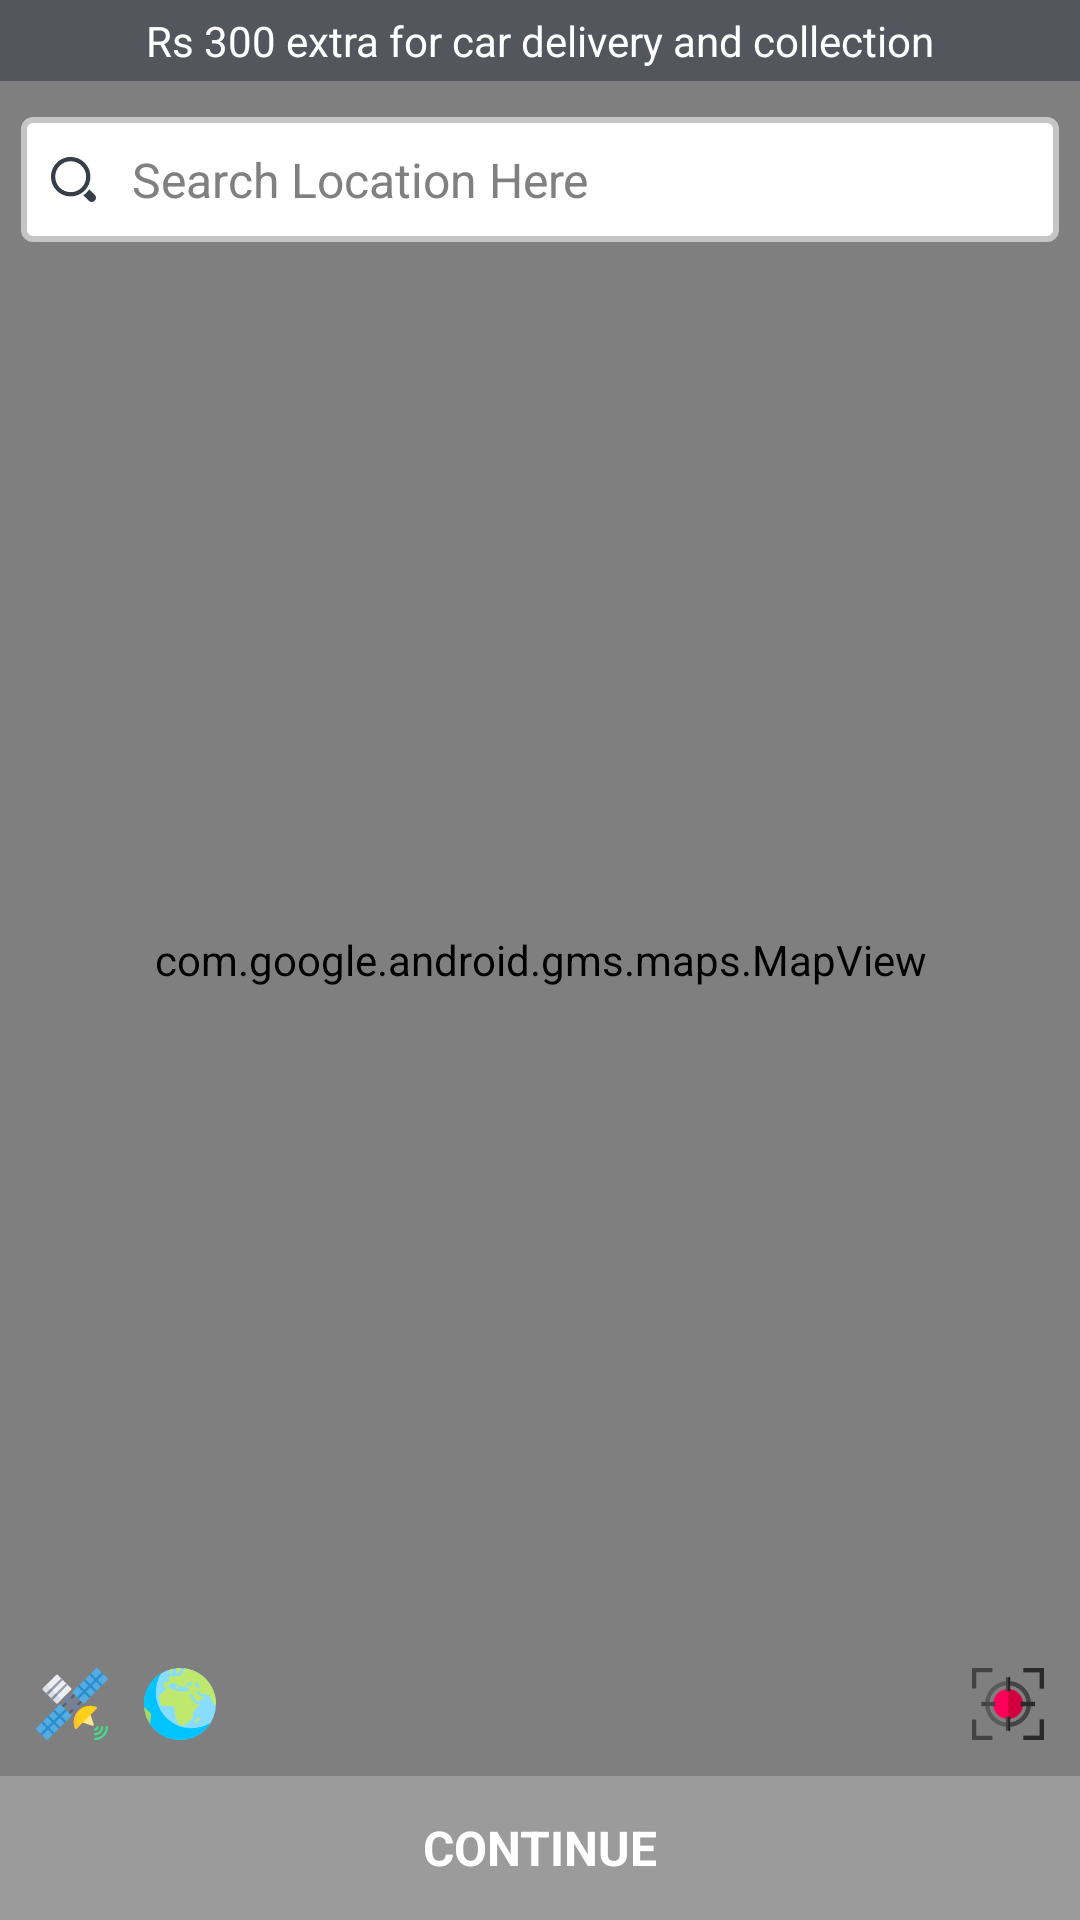

Screen size 1080px x 1920px. Icon name, then its box in pixels as (x1, y1, x2, y2):
current location: (972, 1668, 1044, 1740)
satellite: (36, 1668, 108, 1740)
terrian: (144, 1668, 216, 1740)
